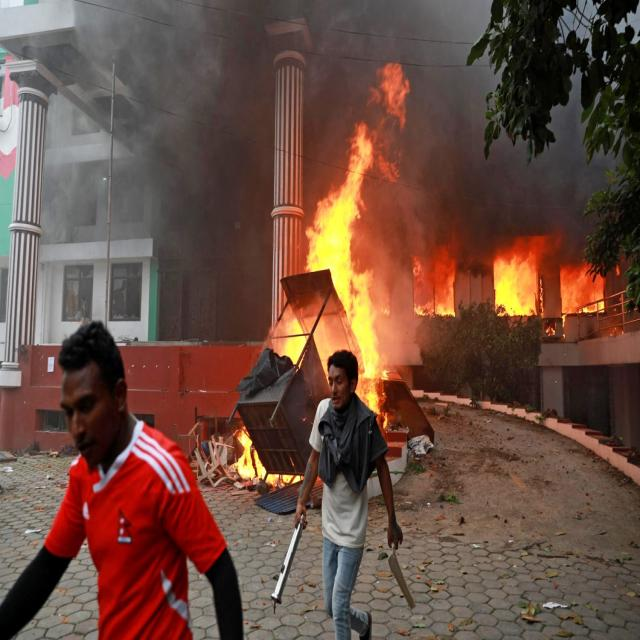fire: (351, 273, 379, 411), (238, 428, 302, 488), (308, 199, 350, 269), (341, 123, 373, 207), (495, 261, 536, 316)
